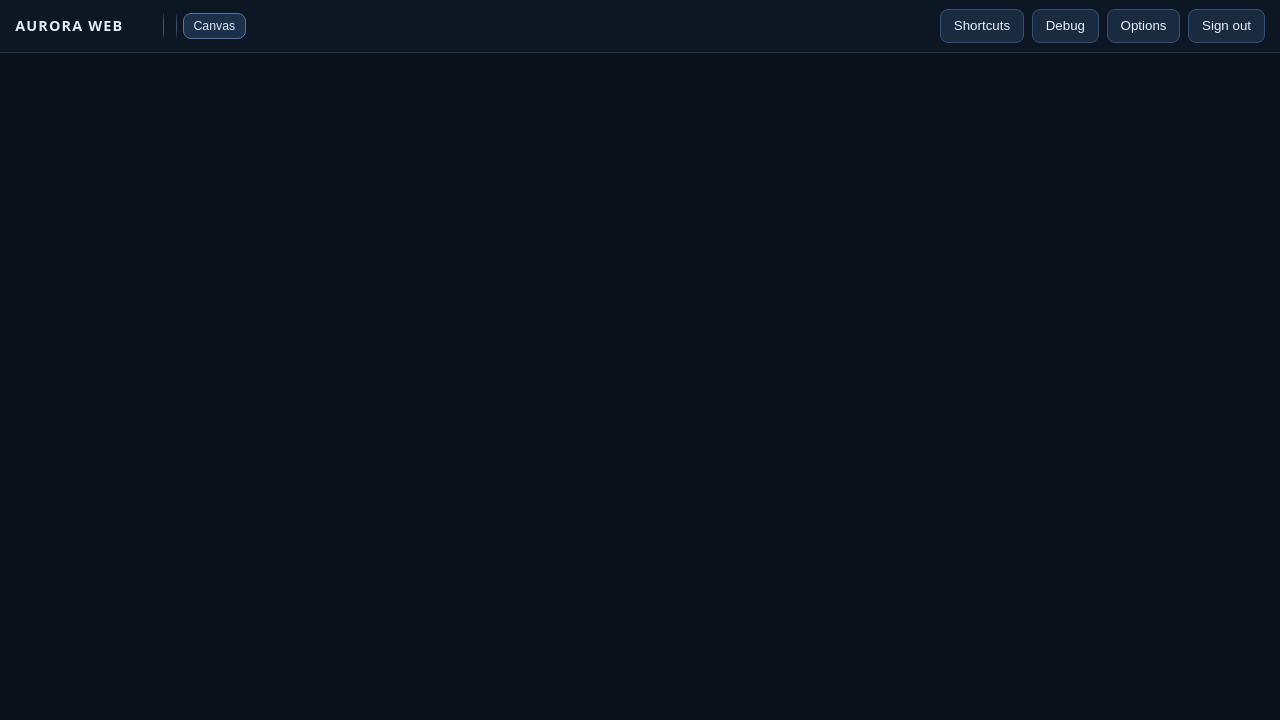
Test: WorkspaceTopbar facades injection › filters VT shortcuts in help by supported actions
The width and height of the screenshot is (1280, 720).
What coordinates should you click on to do the following:
click the button "Shortcuts"
I would click on:
 (982, 26)
Its box is [940,9,1024,43].
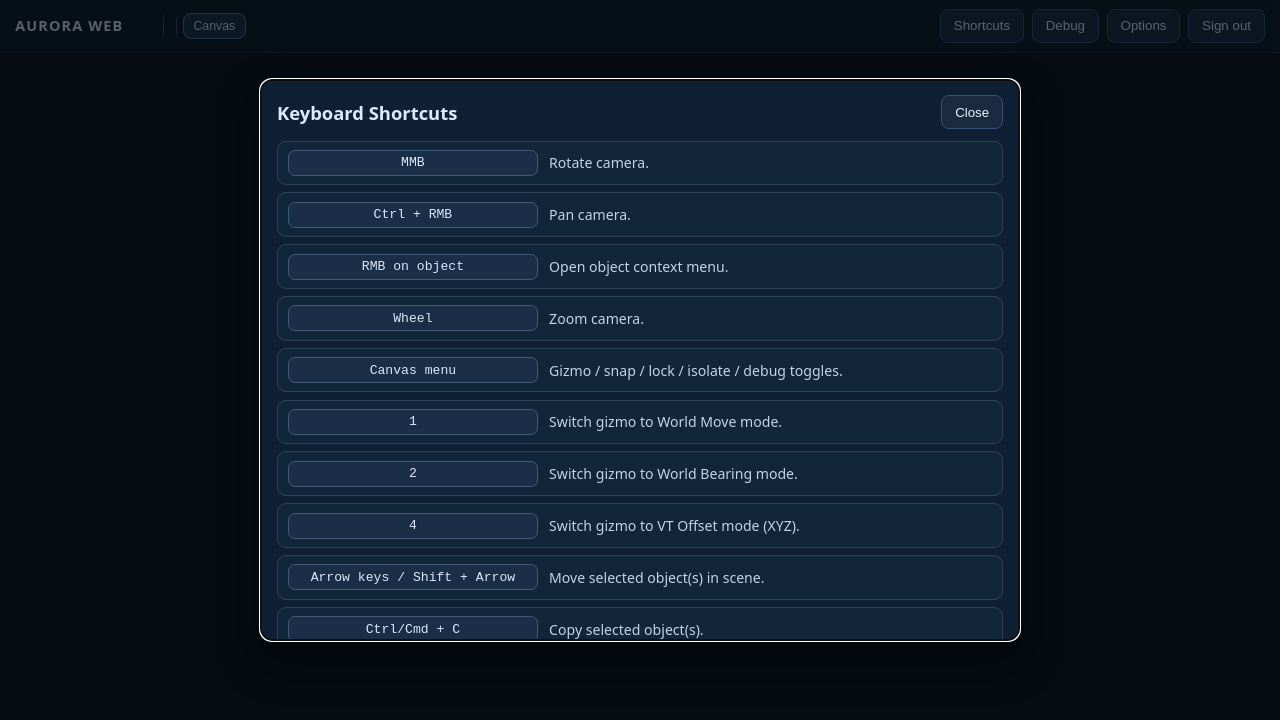
expect the text "Switch gizmo to VT Offset mode (XYZ)." is shown: met, box [549,516,800,535]
